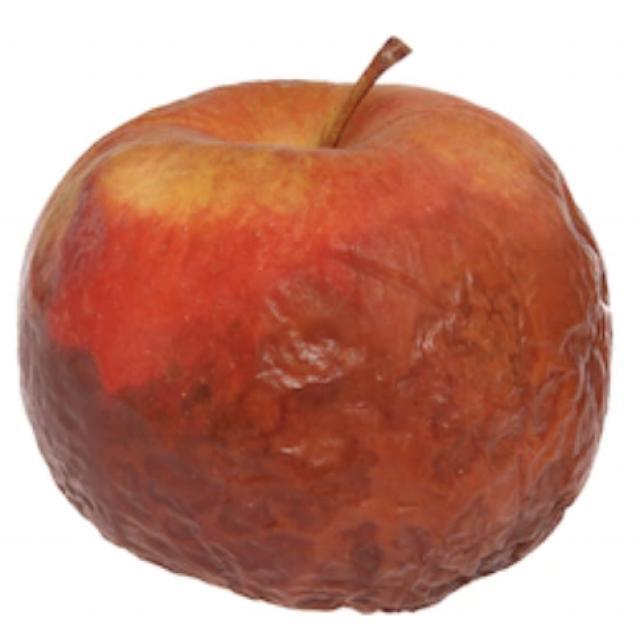Rotten: (16, 73, 614, 610)
